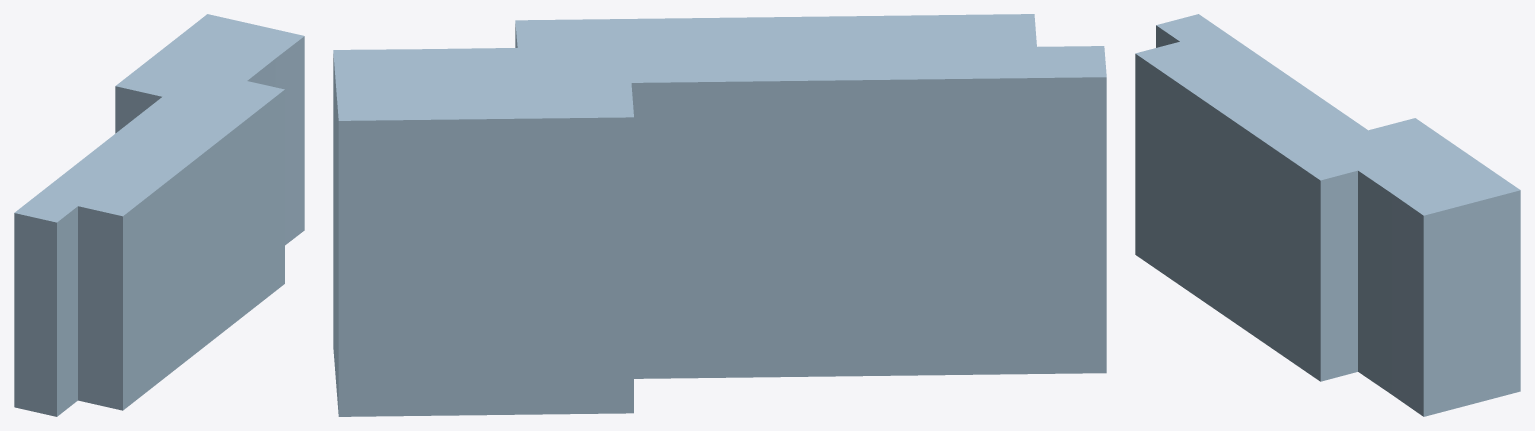
The model's file is osm_way_225255200.glb.
The picture shows the model from 3 angles, left to right: view 1: azimuth 30°, elevation 25°; view 2: azimuth 150°, elevation 25°; view 3: azimuth 270°, elevation 25°; orthographic projection. The views are drawn at different scales.
Visible parts, largest first — view 1: osm_way_225255200; view 2: osm_way_225255200; view 3: osm_way_225255200.
Part boxes in pixels (bbox=[...]): osm_way_225255200: bbox=[14, 14, 304, 416]; osm_way_225255200: bbox=[333, 14, 1106, 416]; osm_way_225255200: bbox=[1135, 14, 1520, 416].
Bounding box in the file's own units: 41.27 × 19.2 × 33.34.
